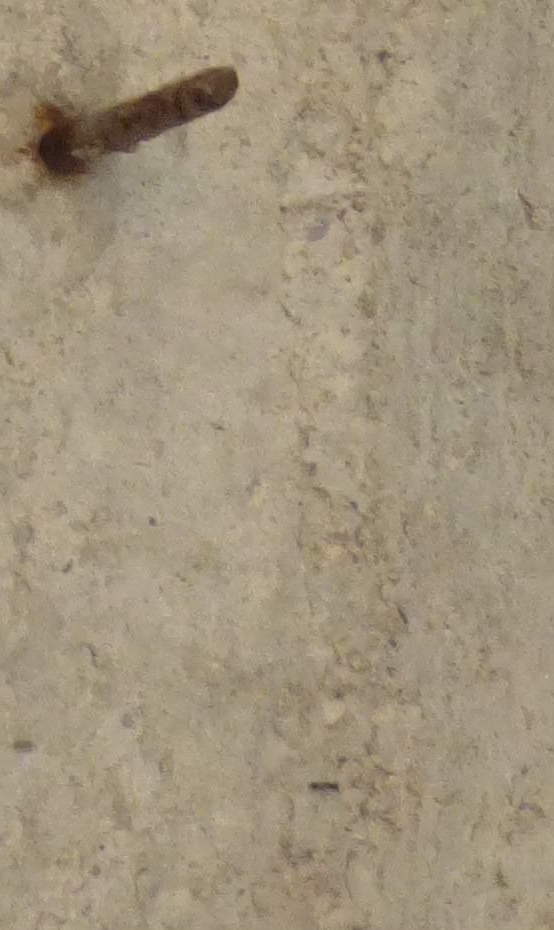Exposed reinforcement: (46, 62, 241, 172)
